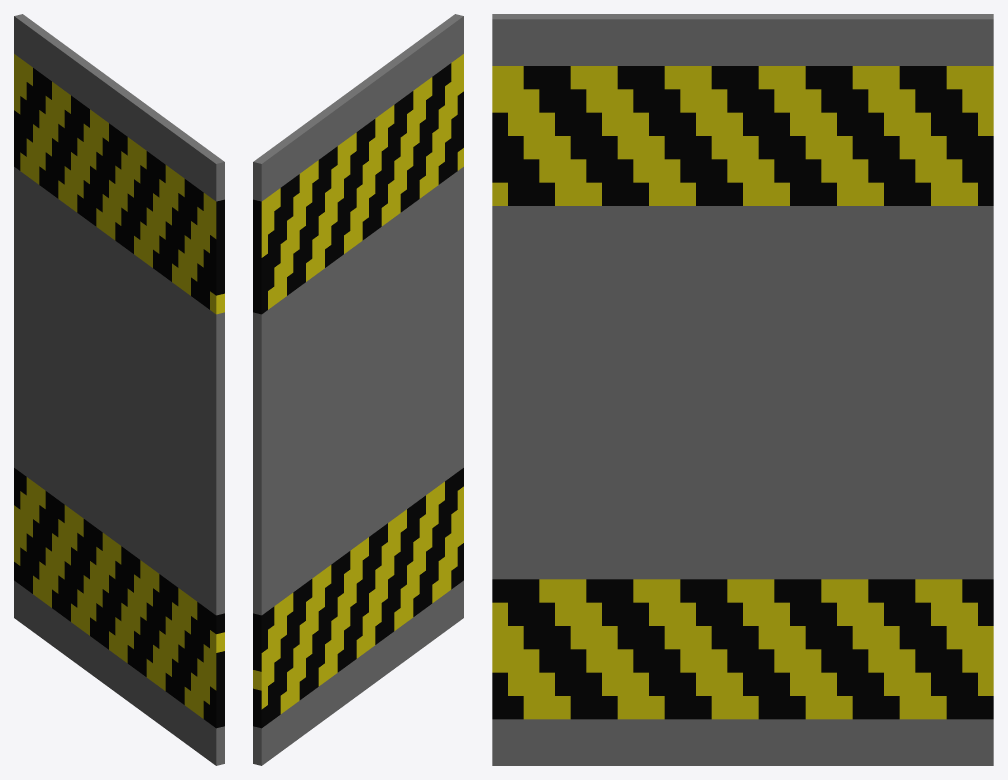
Rendered from puerta.fbx.
3 views of the same model, side by side, from view 1: azimuth 30°, elevation 25°; view 2: azimuth 150°, elevation 25°; view 3: azimuth 270°, elevation 25° (orthographic). The views are drawn at different scales.
Visible parts, largest first — view 1: puerta; view 2: puerta; view 3: puerta.
Boxes of the visible parts, box(x1,y1,x2,y2) form: puerta: box(14, 14, 224, 765); puerta: box(253, 14, 463, 765); puerta: box(492, 14, 993, 765).
Bounding box in the file's own units: 10.14 × 674 × 410.
